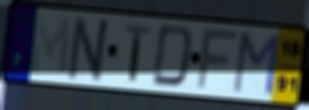D: (150, 23, 196, 91)
F: (194, 29, 242, 92)
M: (230, 30, 282, 99), (28, 13, 73, 79)
N: (65, 15, 114, 85)
T: (123, 22, 151, 84)
